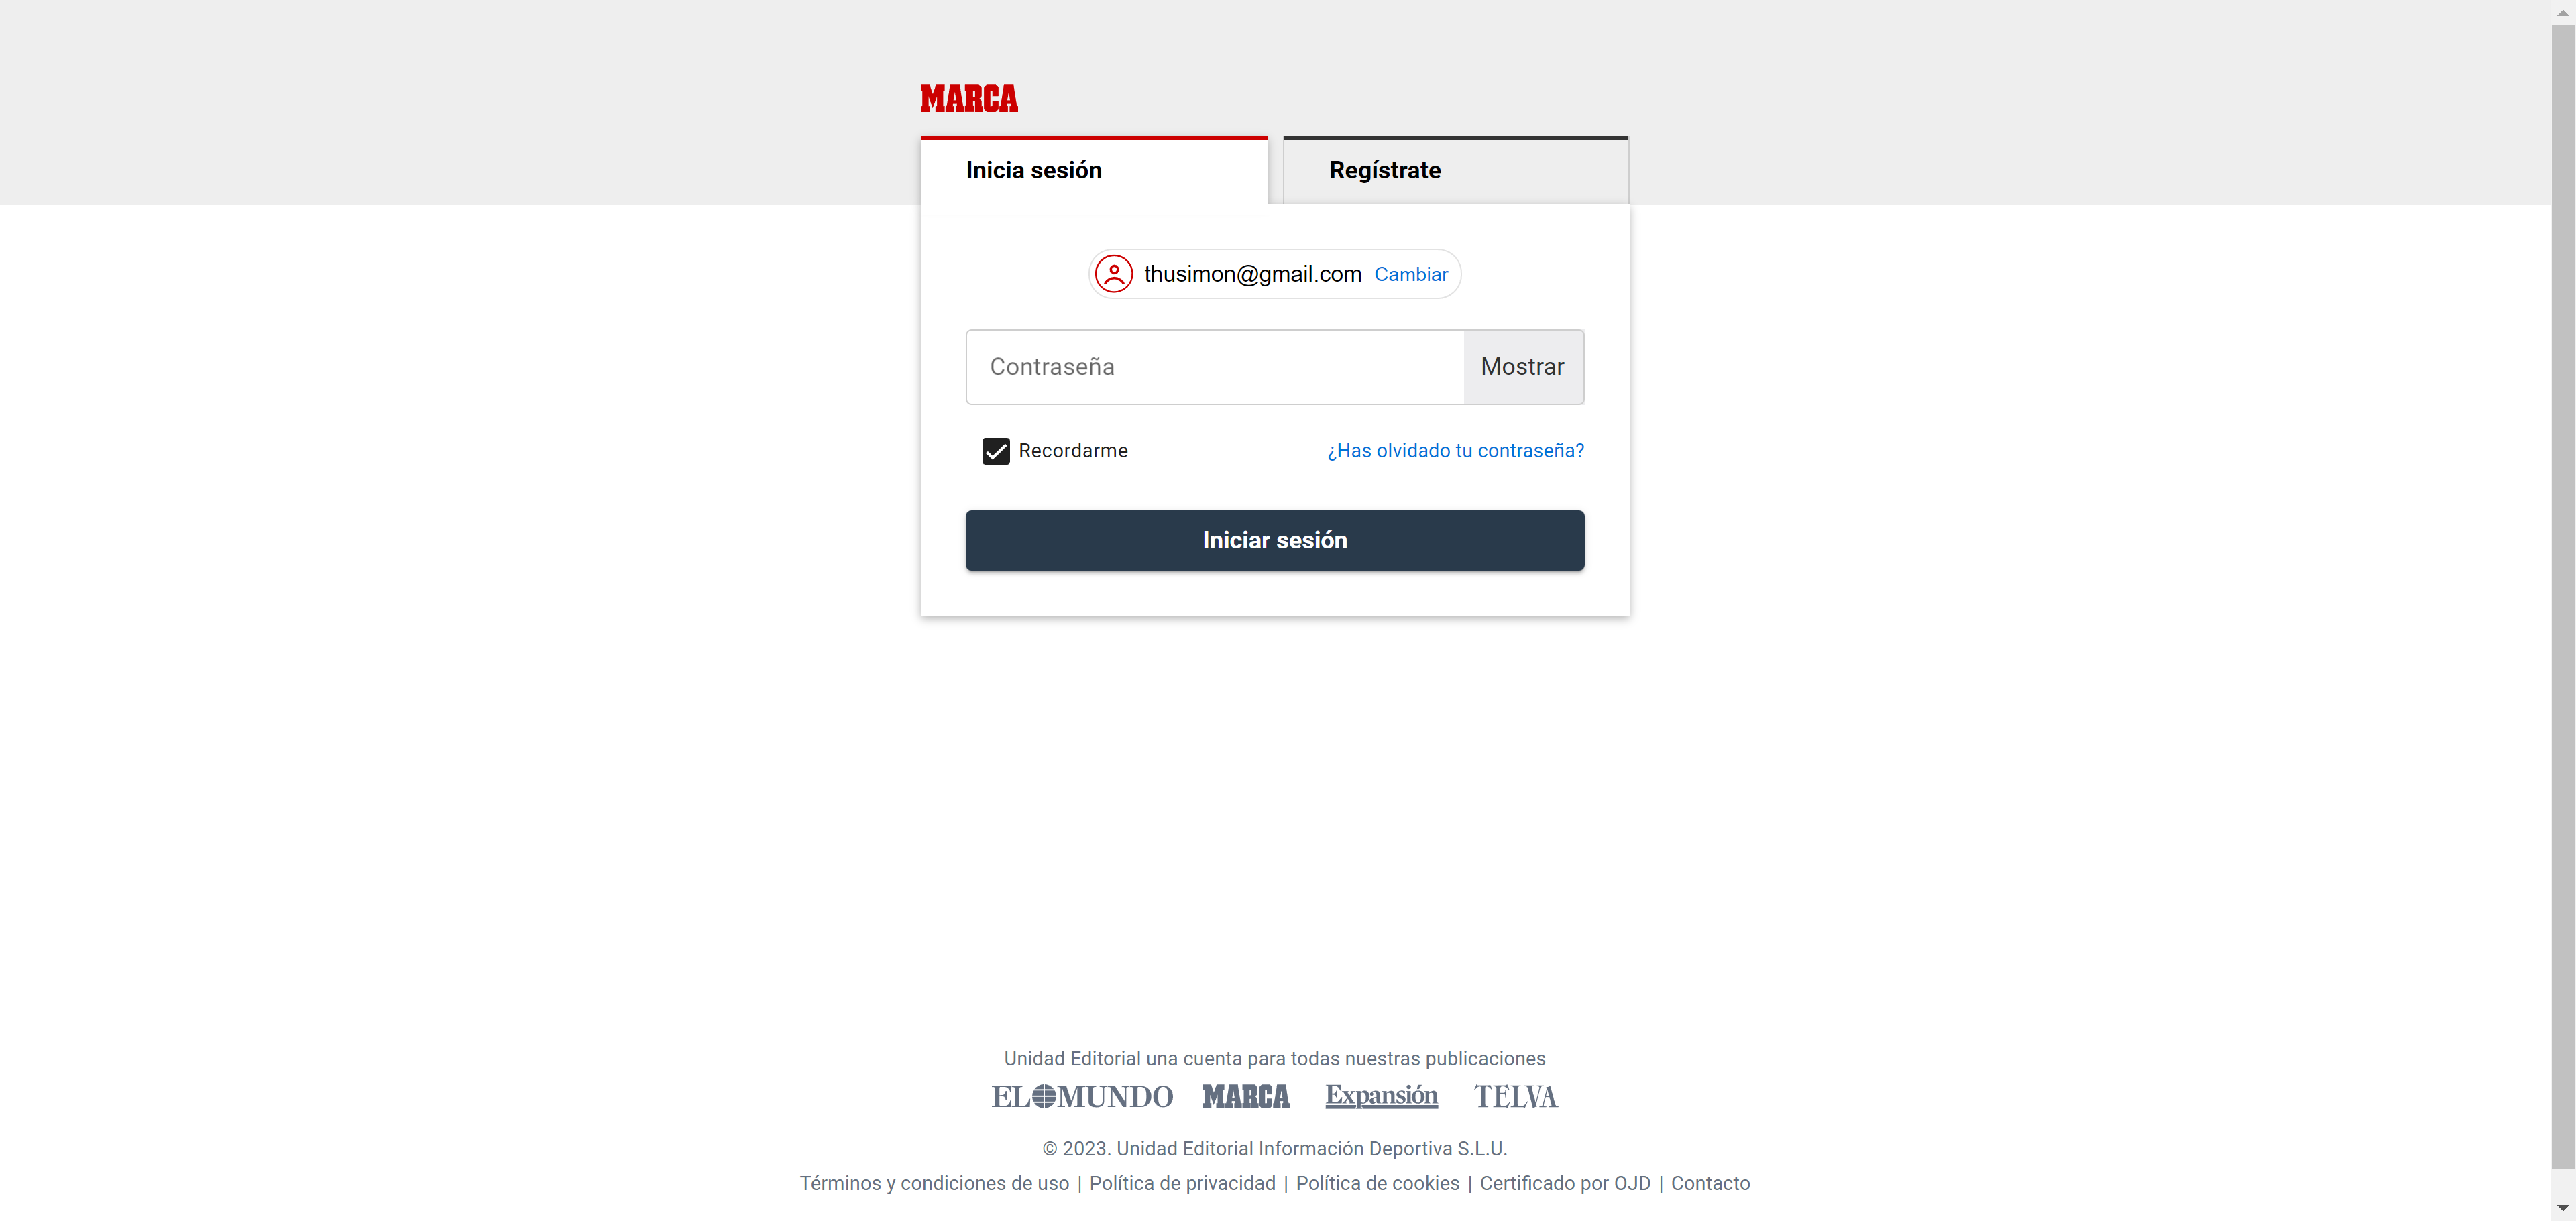login_button: (964, 511, 1584, 572)
login_form: (959, 322, 1594, 580)
